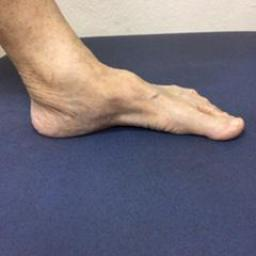Medial View -Left Foot-: (10, 40, 250, 159)
